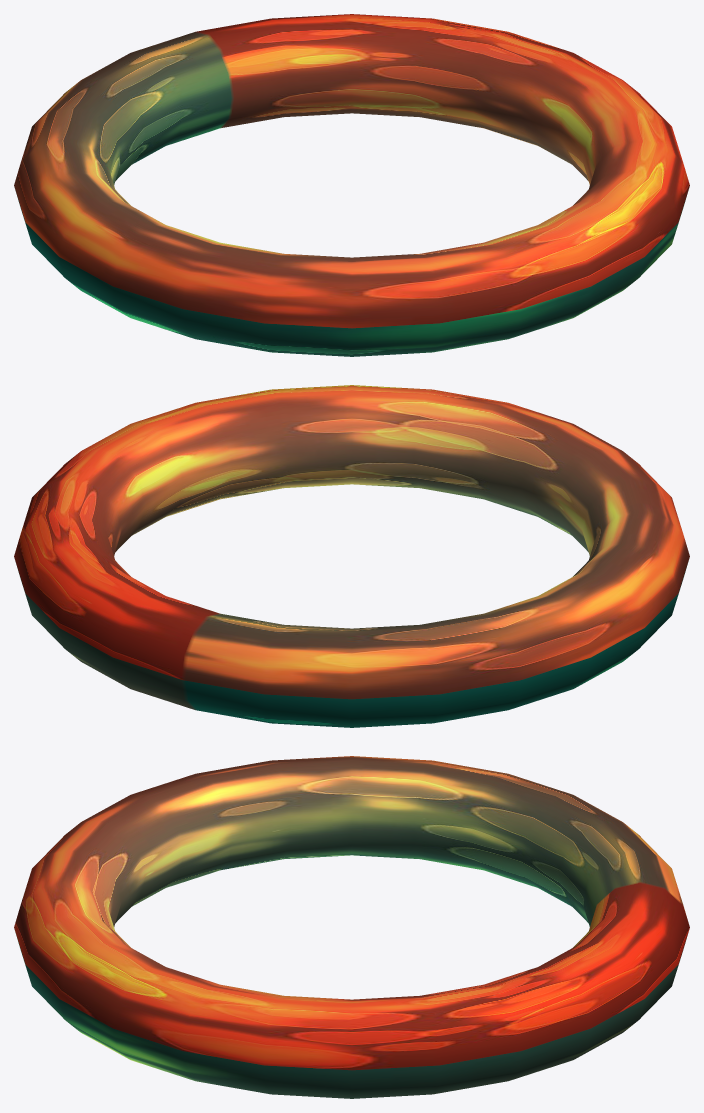
File: button.FBX
3 views of the same model, one above another, from view 1: azimuth 30°, elevation 25°; view 2: azimuth 150°, elevation 25°; view 3: azimuth 270°, elevation 25° (orthographic).
Visible parts, largest first — view 1: Torus001; view 2: Torus001; view 3: Torus001.
Boxes of the visible parts, x1=… form: Torus001: x1=14, y1=14, x2=689, y2=356; Torus001: x1=14, y1=385, x2=689, y2=727; Torus001: x1=14, y1=756, x2=689, y2=1098.
Size of the model in its own units: 58.25 by 8.59 by 58.25.
1 material, 1 textured.
